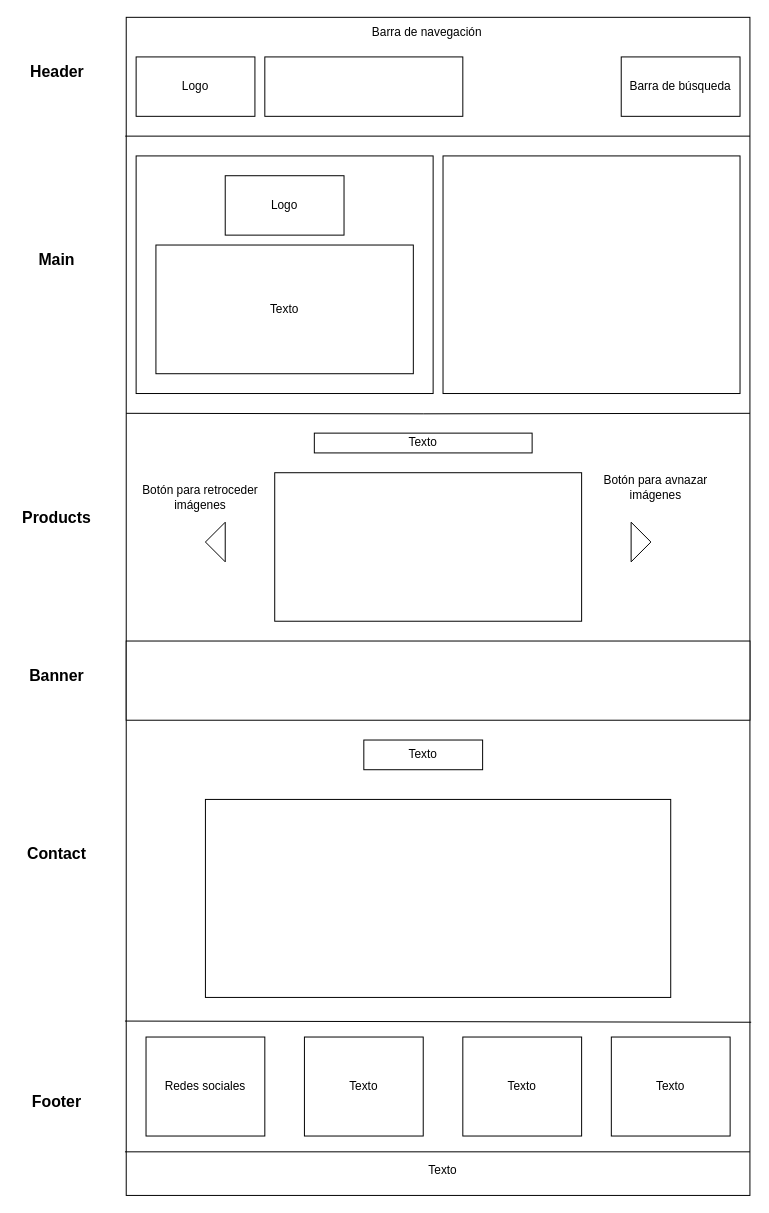
Some shapes in this 769 by 1213 pixel diagram are drawn without their labels. The centre of each missing label's shape, as x and y in pixels:
"Banner de públicidad" goes at point 437,680.
"Carrusel de imágenes" goes at point 428,546.
"Formulario de contacto" goes at point 437,897.
"Imagen" goes at point 591,274.
"Links de navegación" goes at point 363,86.
